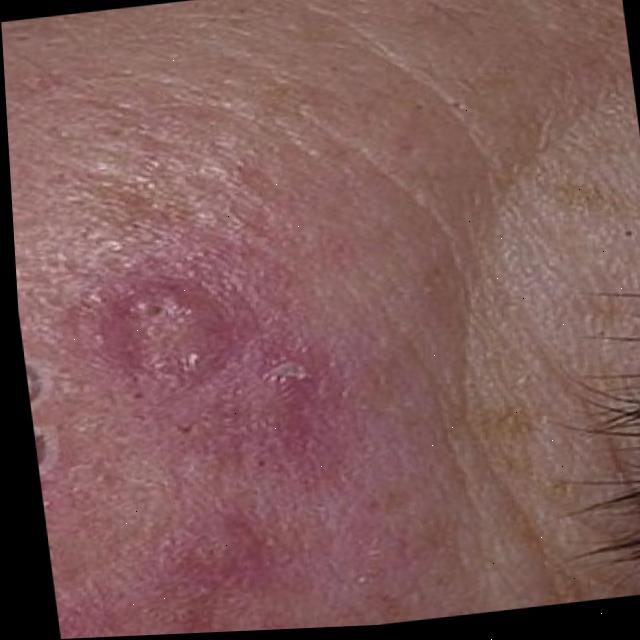Rosacea: (46, 211, 313, 509)
